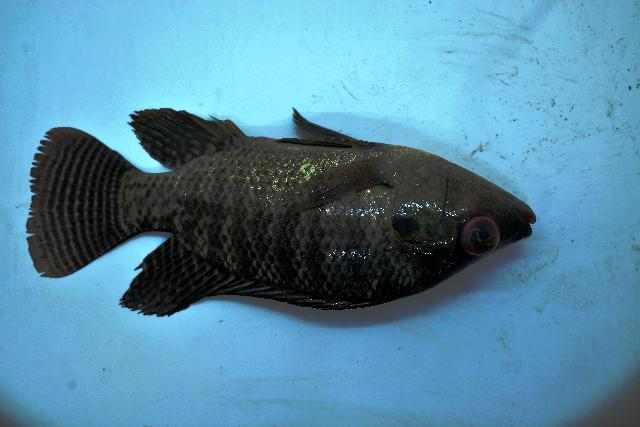Streptococcus: (27, 109, 536, 316)
